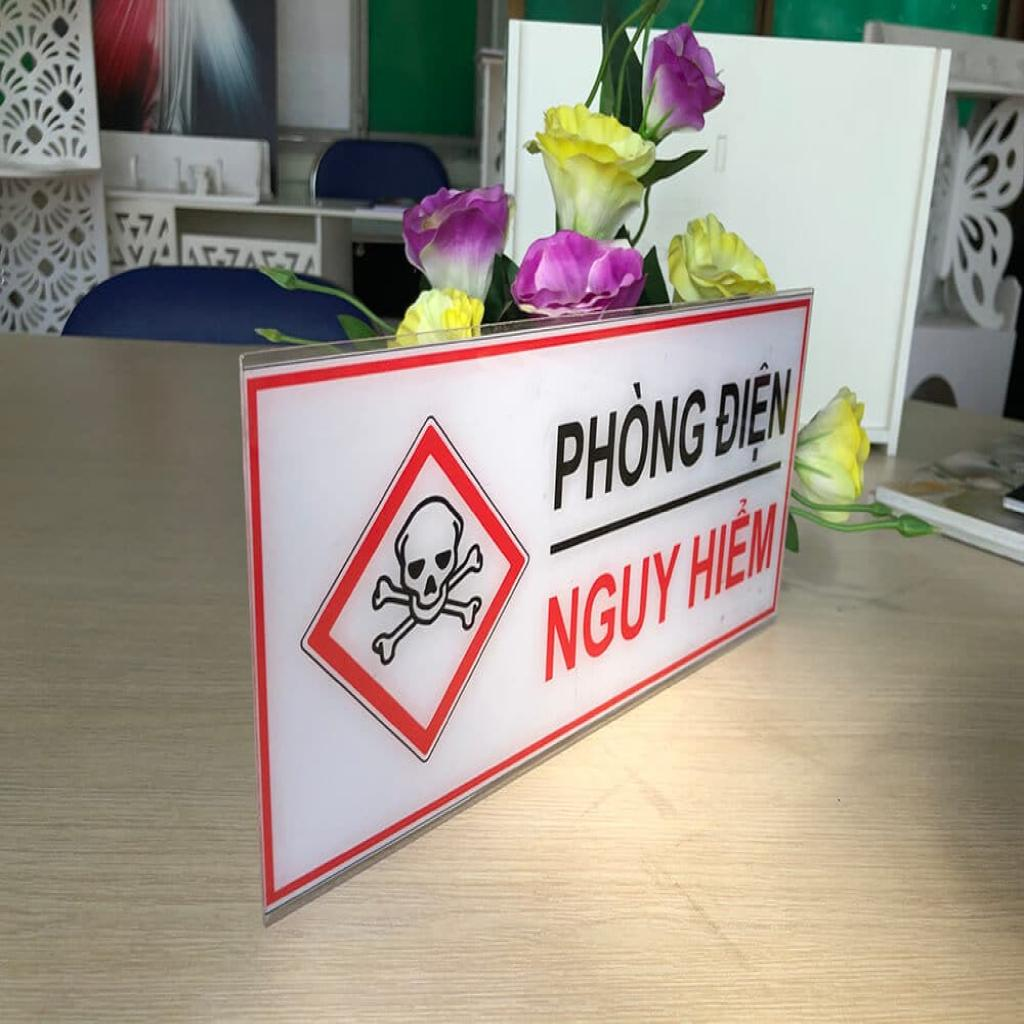text: (548, 363, 710, 522), (539, 528, 688, 624), (708, 350, 794, 484)
